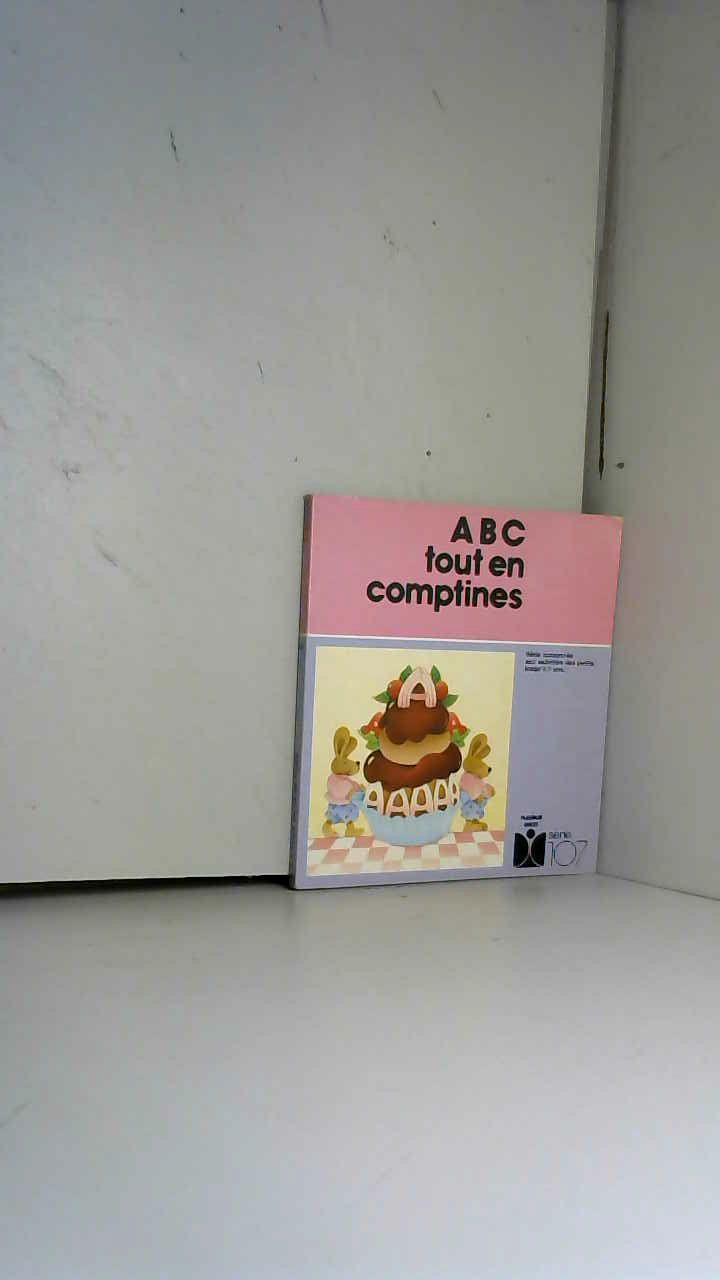book: (279, 483, 638, 909)
